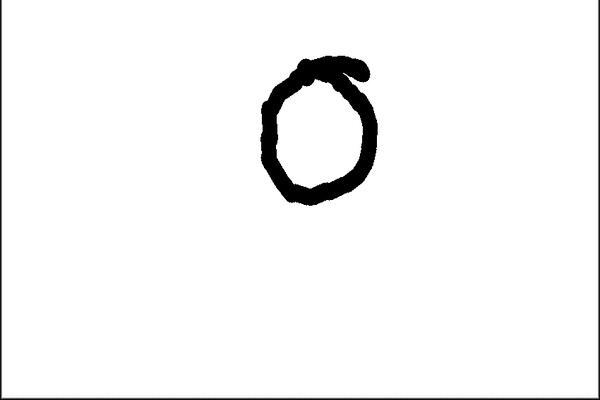O: (244, 43, 386, 208)
